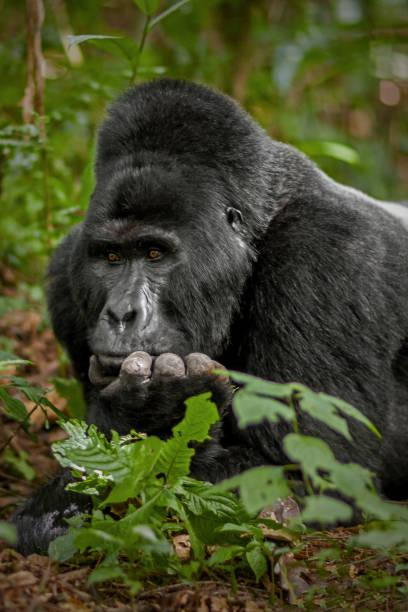goriile_montagne: (48, 42, 408, 518)
